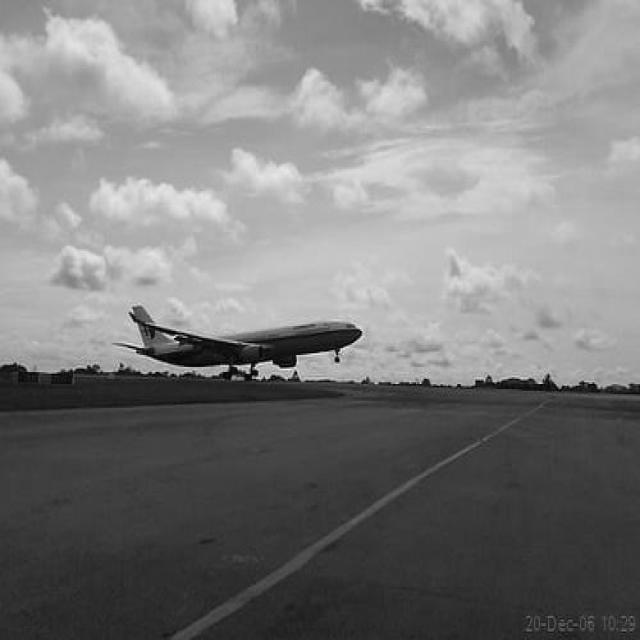aeroplane: (118, 300, 361, 384)
